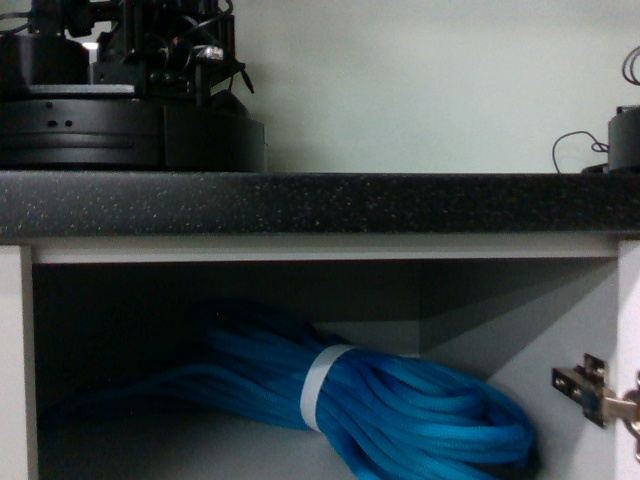rope: (148, 308, 547, 480)
